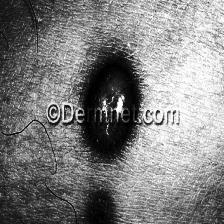Benign Marking or Mole: (86, 58, 140, 150), (81, 189, 117, 224)
